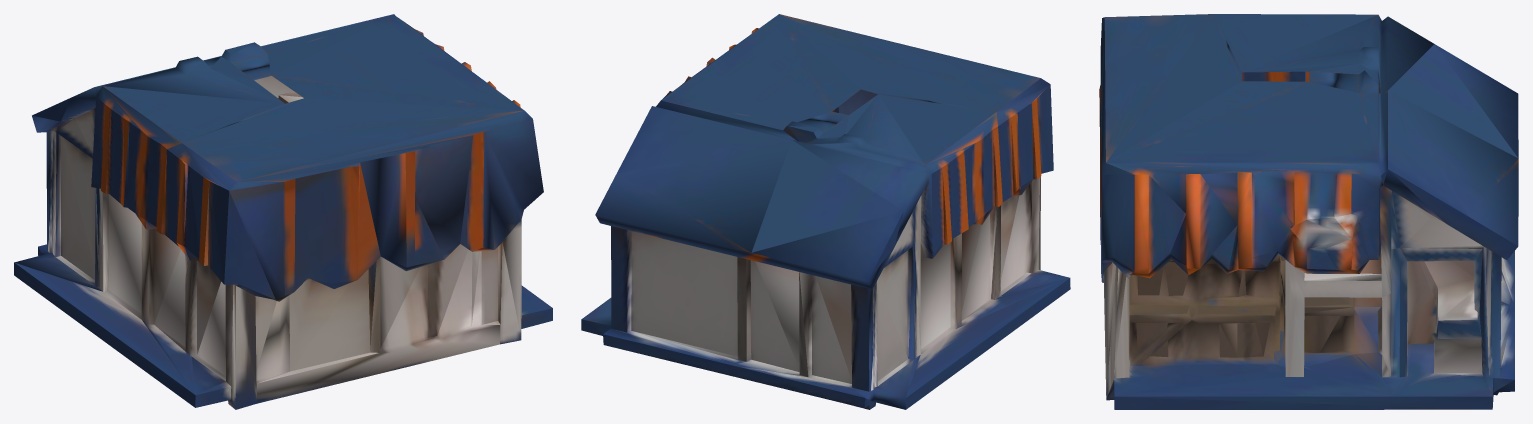
3 renders of one model, left to right at view 1: azimuth 30°, elevation 25°; view 2: azimuth 150°, elevation 25°; view 3: azimuth 270°, elevation 25°, orthographic. The views are drawn at different scales.
Visible parts, largest first — view 1: tripo_node_fb7e8506.009; view 2: tripo_node_fb7e8506.009; view 3: tripo_node_fb7e8506.009.
Boxes of the visible parts, x1,y1,x2,y2 form: tripo_node_fb7e8506.009: (14,14,552,409); tripo_node_fb7e8506.009: (581,14,1070,409); tripo_node_fb7e8506.009: (1099,14,1518,409).
Size of the model in its own units: 29.8 by 18.79 by 29.01.
1 material, 1 textured.
